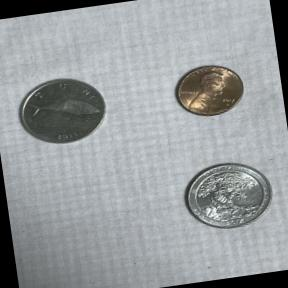coin: (5, 66, 123, 158), (174, 152, 282, 238), (162, 53, 256, 129)
